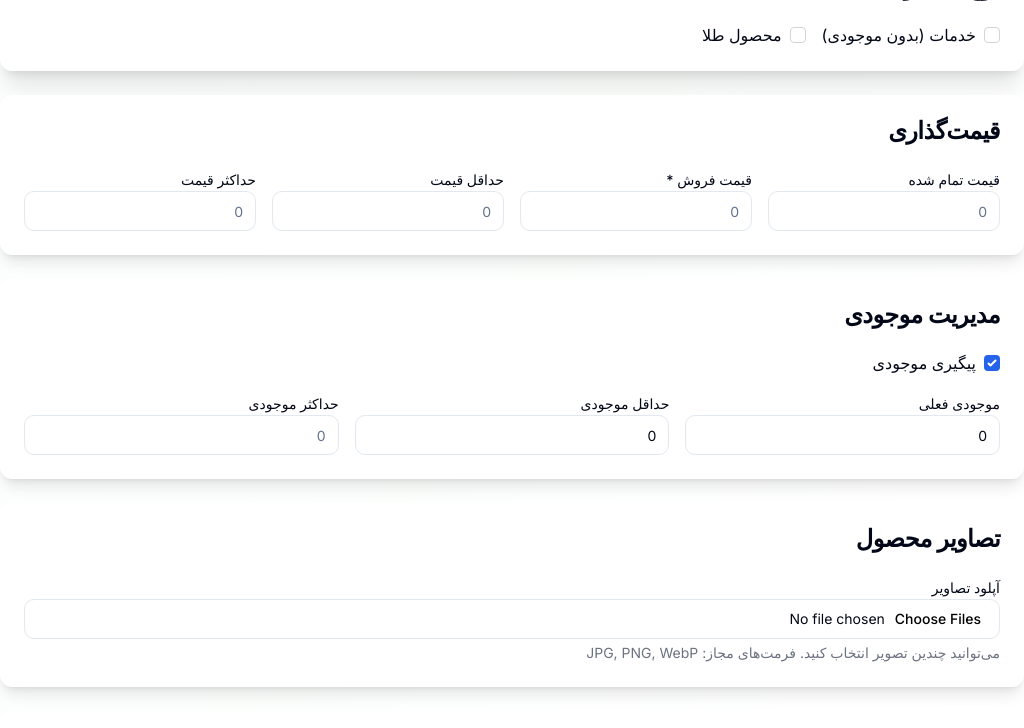
ProductForm › shows inventory fields when track inventory is checked
This screenshot has width=1024, height=728.
(page scrolled)
Check: the number field labelled "موجودی فعلی" is shown, box 685,415 -> 1000,455
Check: the number field labelled "حداقل موجودی" is shown, box 355,415 -> 669,455
Uncheck track inventory
Click the checkbox labelled "پیگیری موجودی": (992, 363) 984,355 -> 1000,371
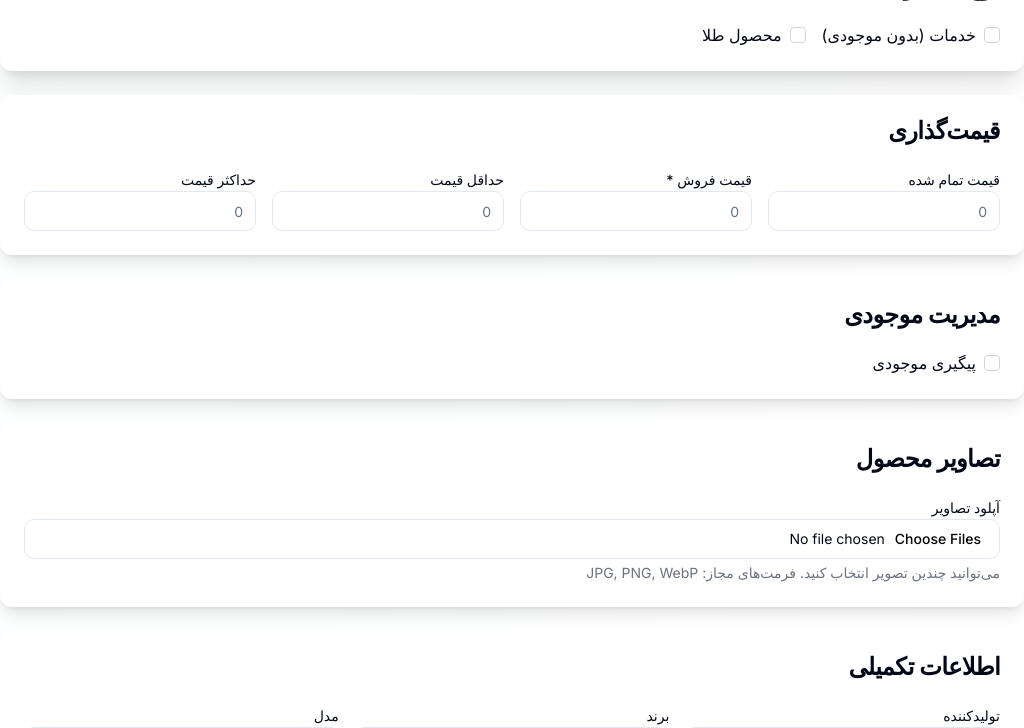
Check: the label labelled "موجودی فعلی" is gone
